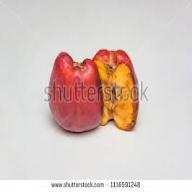apple: (48, 55, 107, 129), (92, 48, 140, 134)
